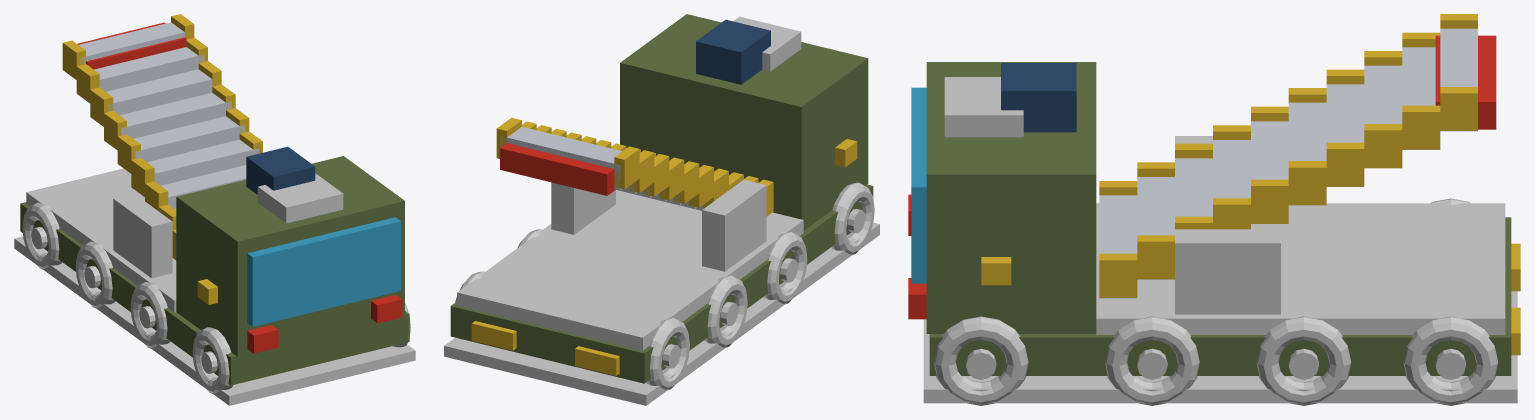
File: drone_launcher.obj
3 renders of one model, left to right at view 1: azimuth 30°, elevation 25°; view 2: azimuth 150°, elevation 25°; view 3: azimuth 270°, elevation 25°, orthographic. The views are drawn at different scales.
Parts seen in each view (by area): view 1: drone_launcher; view 2: drone_launcher; view 3: drone_launcher.
Boxes of the visible parts, left/top/right/bottom form: drone_launcher: left=14, top=14, right=415, bottom=405; drone_launcher: left=444, top=14, right=879, bottom=405; drone_launcher: left=908, top=14, right=1520, bottom=405.
Bounding box in the file's own units: 2 × 2.13 × 4.04.
